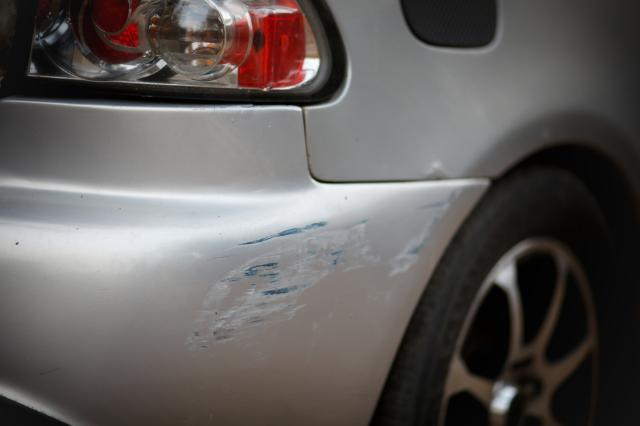Bumper: (165, 183, 467, 362)
